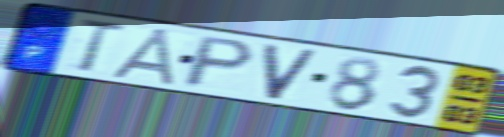3: (386, 64, 443, 120)
8: (324, 54, 388, 112)
A: (106, 27, 180, 89)
P: (179, 34, 258, 91)
T: (75, 18, 129, 75)
V: (262, 42, 321, 102)
